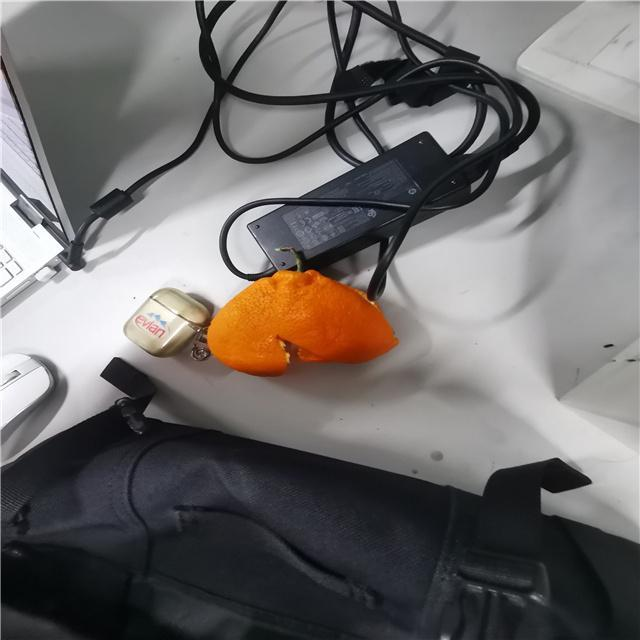orange-peel: (203, 266, 399, 378)
